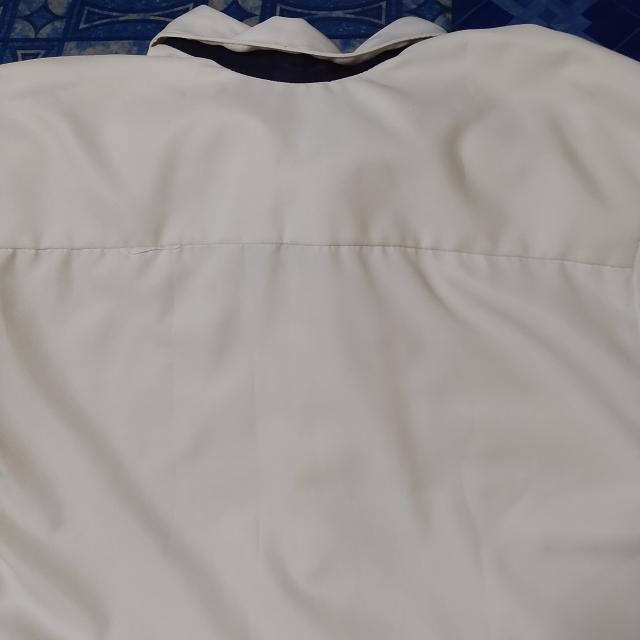education_male_uniform: (0, 5, 640, 475)
